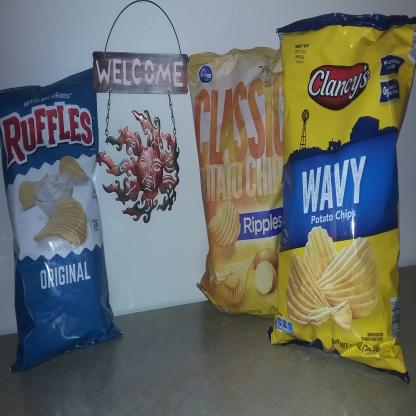potatochip: (263, 8, 415, 388), (0, 61, 126, 377), (183, 40, 304, 324)
